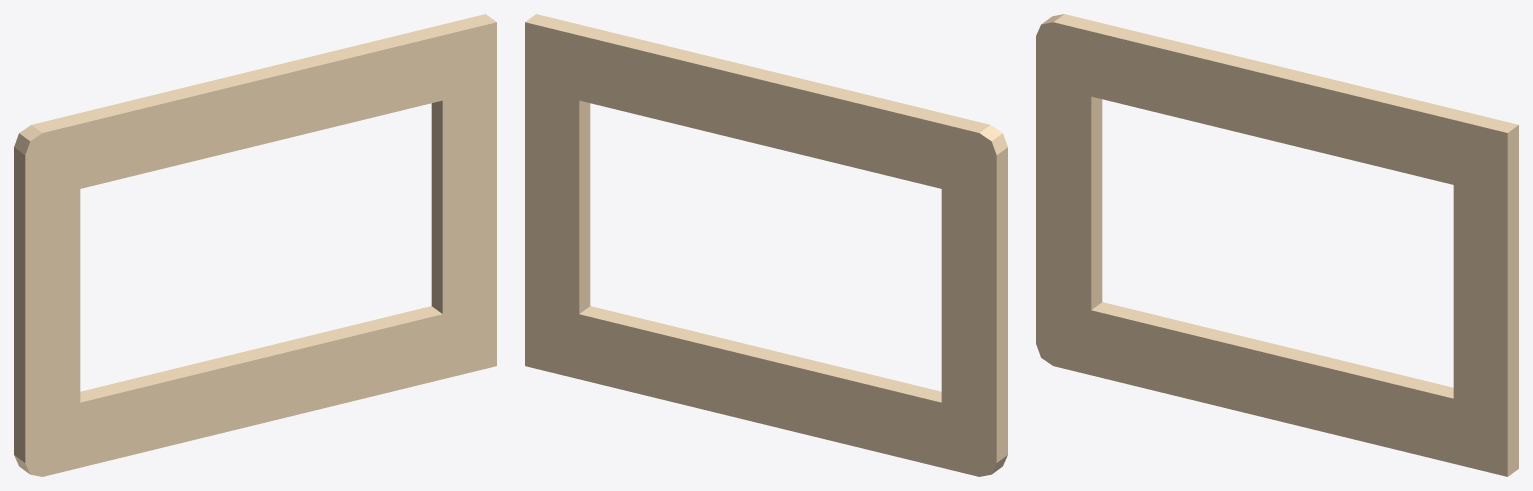
The model's file is Microwave_Old_B.fbx.
3 views of the same model, side by side, from view 1: azimuth 30°, elevation 25°; view 2: azimuth 150°, elevation 25°; view 3: azimuth 330°, elevation 25° (orthographic).
Parts seen in each view (by area): view 1: Microwave_Old_B; view 2: Microwave_Old_B; view 3: Microwave_Old_B.
Boxes of the visible parts, left/top/right/bottom form: Microwave_Old_B: left=14, top=14, right=496, bottom=476; Microwave_Old_B: left=525, top=14, right=1007, bottom=476; Microwave_Old_B: left=1036, top=14, right=1518, bottom=476.
Size of the model in its own units: 64.84 by 45.17 by 2.67.
